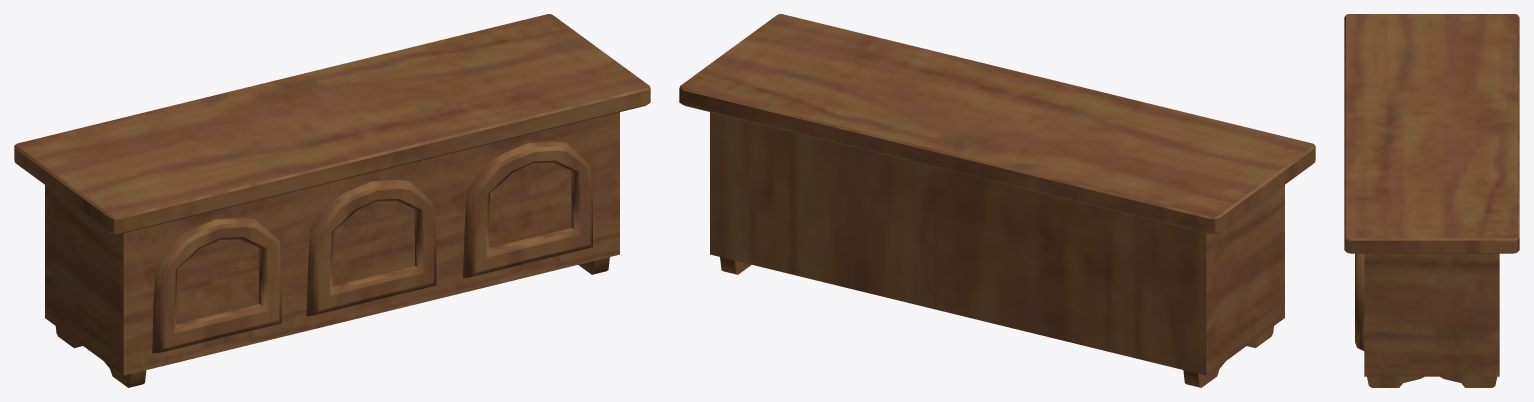
Rendered from CI_078_079_cupboard_var1.glb.
The picture shows the model from 3 angles, left to right: view 1: azimuth 30°, elevation 25°; view 2: azimuth 150°, elevation 25°; view 3: azimuth 270°, elevation 25°; orthographic projection. The views are drawn at different scales.
Parts seen in each view (by area): view 1: cupboard; view 2: cupboard; view 3: cupboard.
Part boxes in pixels (x1=…): cupboard: x1=14, y1=14, x2=650, y2=387; cupboard: x1=679, y1=14, x2=1315, y2=387; cupboard: x1=1344, y1=14, x2=1519, y2=387.
Bounding box in the file's own units: 2.25 × 0.75 × 0.7386.
Materials: 1 (1 with a texture image).
